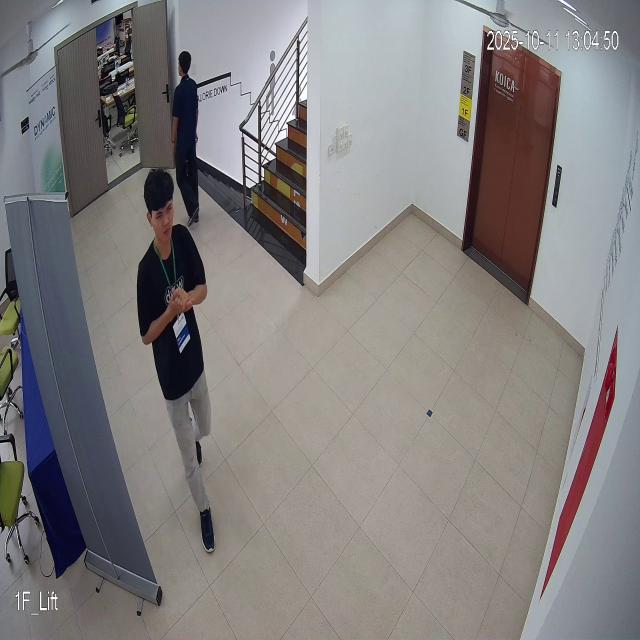face: (140, 162, 178, 247)
